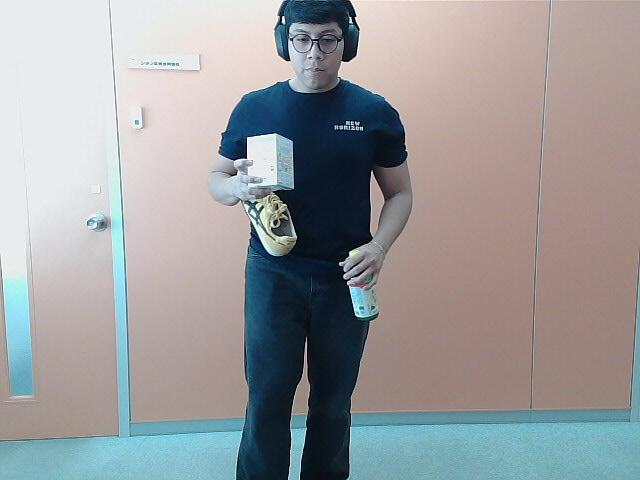Blind_box: (244, 129, 295, 191)
Lemon_sapporo: (337, 247, 382, 323)
Shoes: (235, 168, 296, 257)
